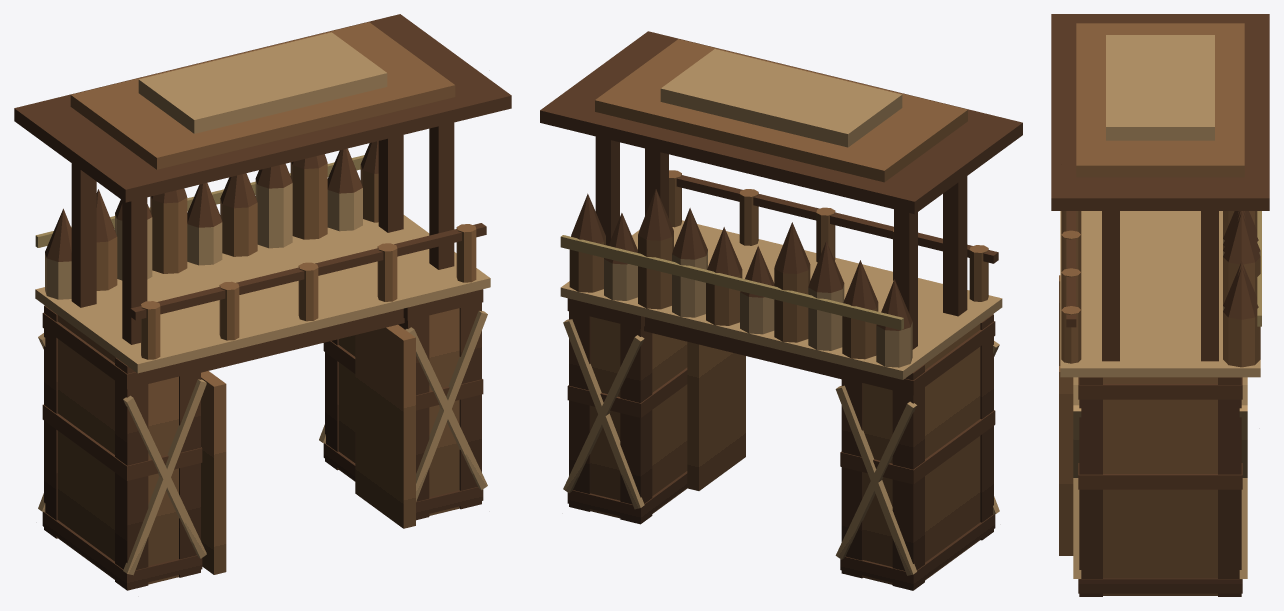
Rendered from perimeter_gate_wood_open.glb.
3 views of the same model, side by side, from view 1: azimuth 30°, elevation 25°; view 2: azimuth 150°, elevation 25°; view 3: azimuth 270°, elevation 25° (orthographic). The views are drawn at different scales.
Bounding box in the file's own units: 4.4 × 4.8 × 2.2.
1 material, 1 textured.
